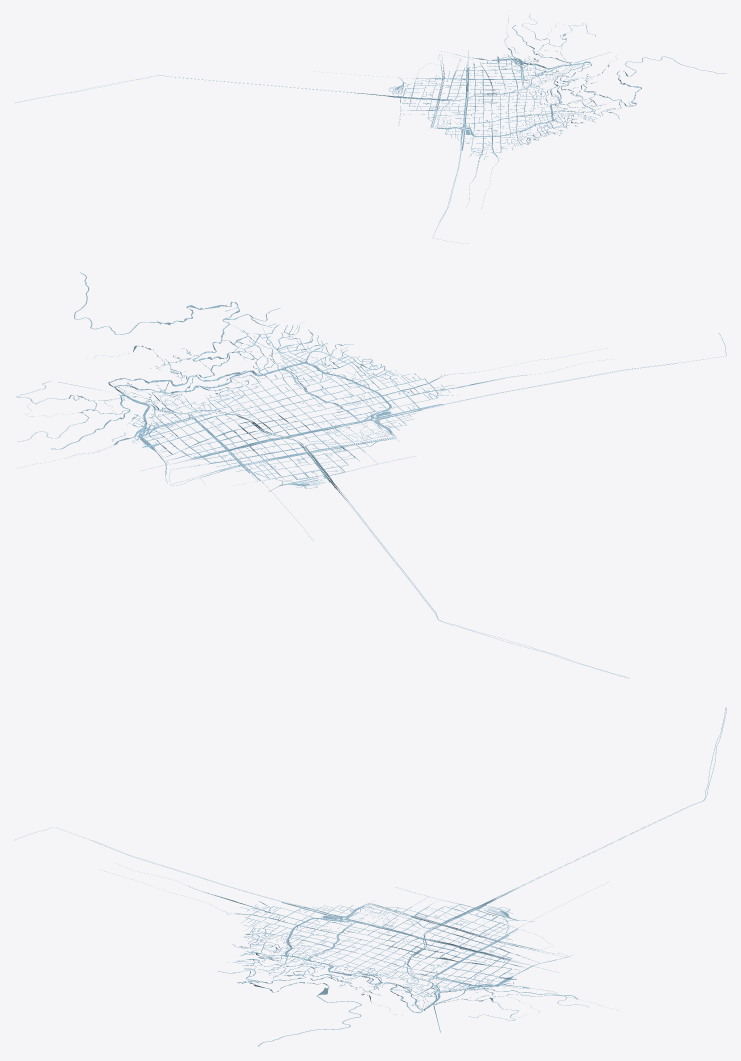
The model's file is roads.glb.
3 views of the same model, one above another, from view 1: azimuth 30°, elevation 25°; view 2: azimuth 150°, elevation 25°; view 3: azimuth 270°, elevation 25° (orthographic). The views are drawn at different scales.
Visible parts, largest first — view 1: roads; view 2: roads; view 3: roads.
Part boxes in pixels (x1,y1,x2,y2): roads: [15, 14, 726, 243]; roads: [16, 272, 726, 678]; roads: [14, 707, 726, 1046].
Size of the model in its own units: 8661 by 398 by 7093.
